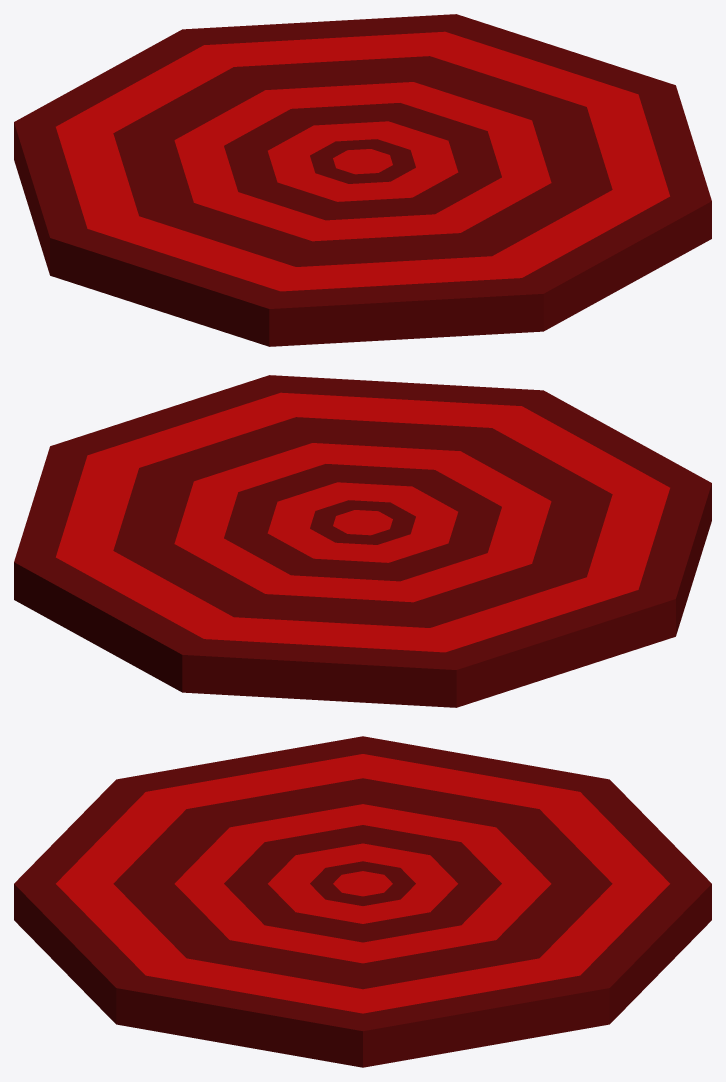
File: beetroot03.obj
The picture shows the model from 3 angles, top to bottom: view 1: azimuth 30°, elevation 25°; view 2: azimuth 150°, elevation 25°; view 3: azimuth 270°, elevation 25°; orthographic projection. The views are drawn at different scales.
Visible parts, largest first — view 1: Cylinder_Cylinder.001; view 2: Cylinder_Cylinder.001; view 3: Cylinder_Cylinder.001.
Boxes of the visible parts, bbox=[...] form: Cylinder_Cylinder.001: bbox=[14, 14, 711, 346]; Cylinder_Cylinder.001: bbox=[14, 375, 711, 707]; Cylinder_Cylinder.001: bbox=[14, 736, 711, 1067].
Bounding box in the file's own units: 0.0725 × 0.00418 × 0.0725.
1 material, 1 textured.
